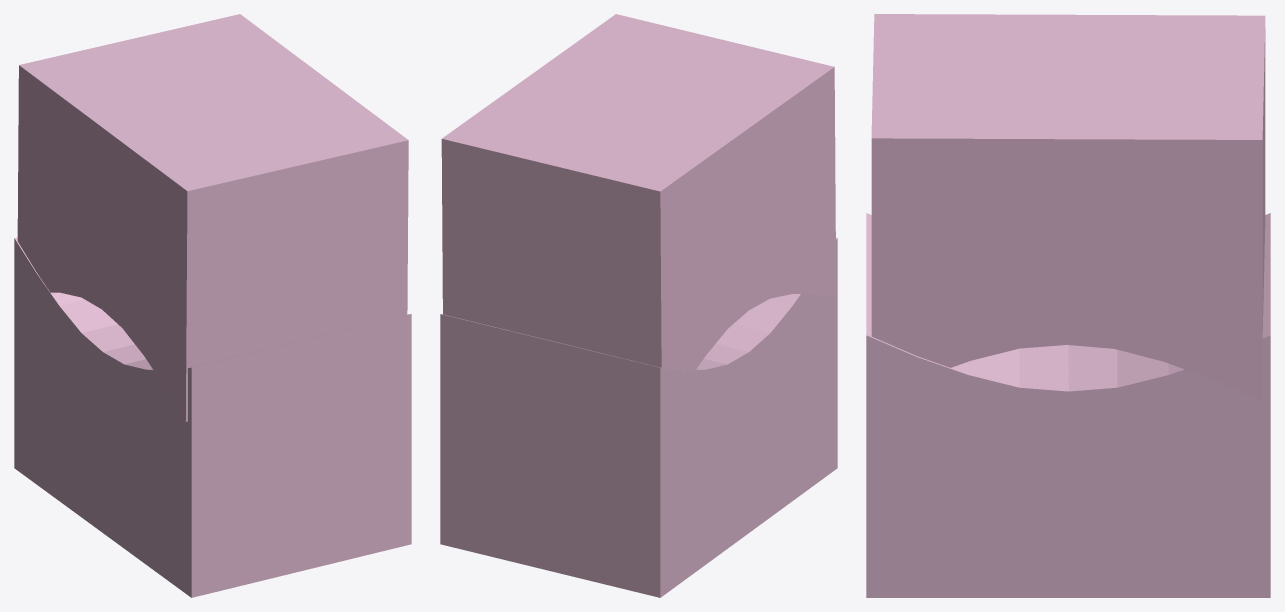
Rendered from ojos.glb.
The picture shows the model from 3 angles, left to right: view 1: azimuth 30°, elevation 25°; view 2: azimuth 150°, elevation 25°; view 3: azimuth 270°, elevation 25°; orthographic projection. The views are drawn at different scales.
Parts seen in each view (by area): view 1: Cube.001, Cube; view 2: Cube.001, Cube; view 3: Cube.001, Cube.
Boxes of the visible parts, bbox=[...] form: Cube.001: bbox=[17, 14, 408, 421]; Cube: bbox=[14, 237, 411, 597]; Cube.001: bbox=[441, 14, 836, 370]; Cube: bbox=[440, 238, 837, 597]; Cube.001: bbox=[871, 14, 1265, 401]; Cube: bbox=[866, 213, 1270, 597].
Bounding box in the file's own units: 2.04 × 3.51 × 2.79.
